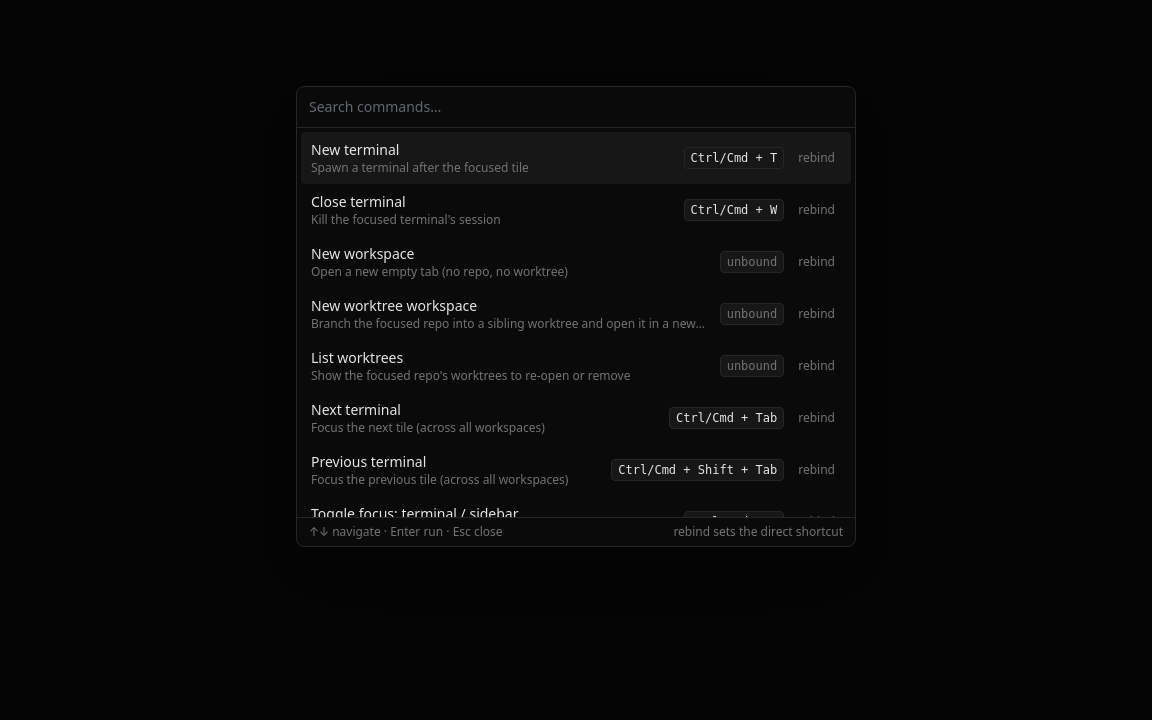
CommandPalette Summon captain identity › uses the durable renamed display name
Type "Summon captain" into the field with placeholder "Search commands…" at (576, 107), box x1=309 y1=97 x2=843 y2=117
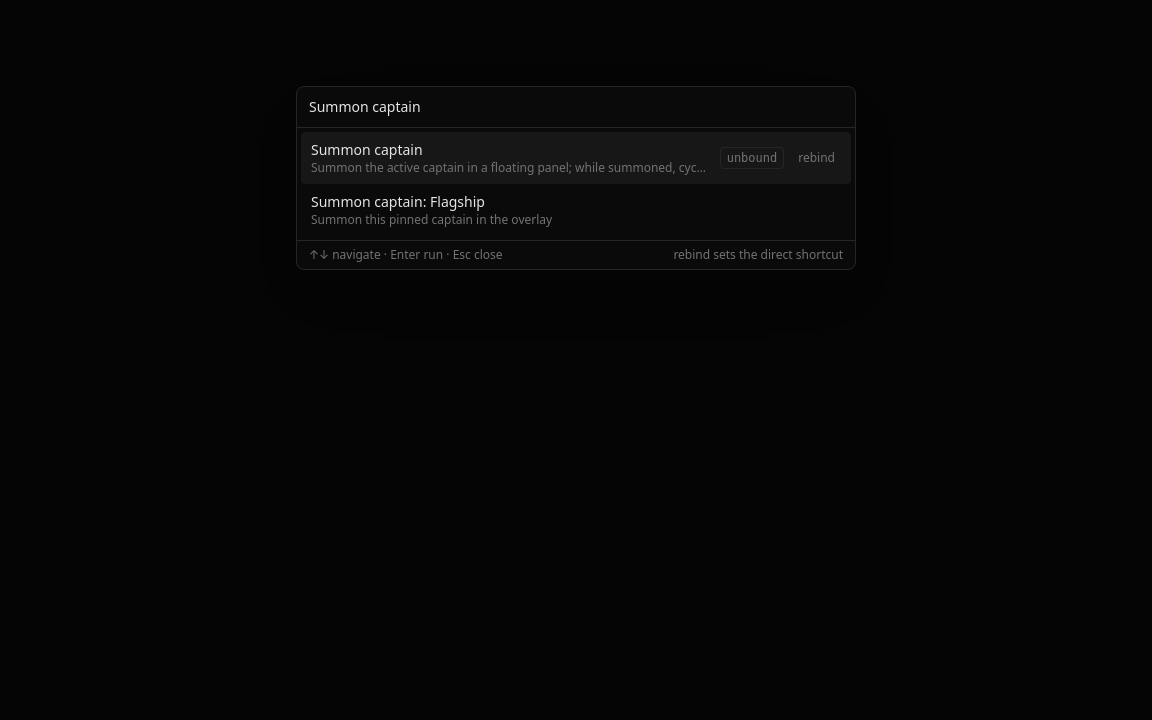
Check: the text "Summon captain: Flagship" is shown, box x1=311 y1=192 x2=485 y2=211
